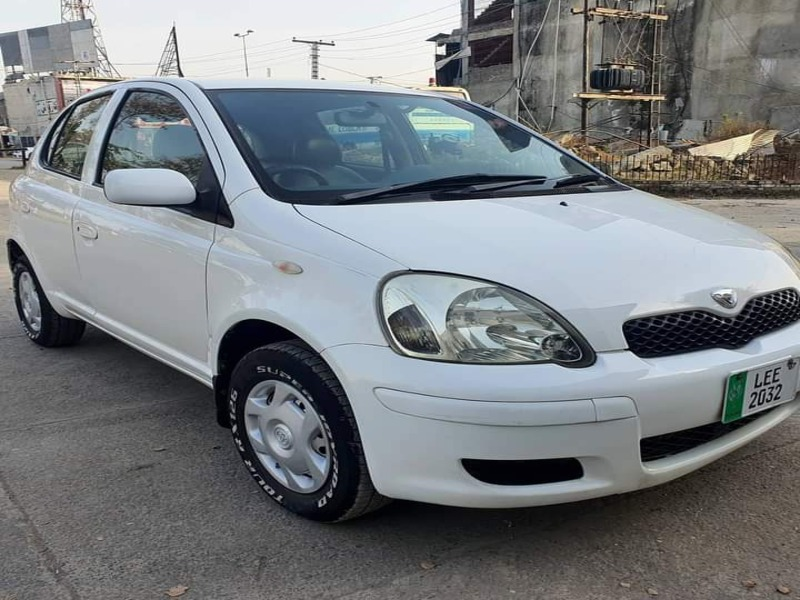License Plate: (720, 355, 800, 428)
